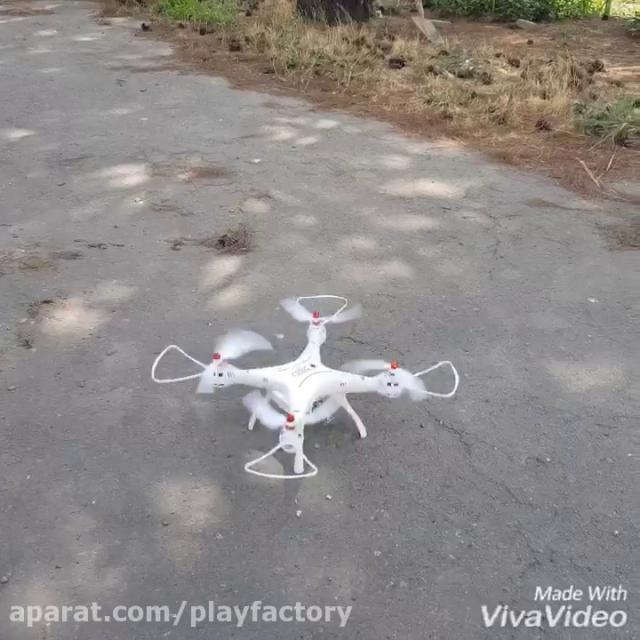drone: (146, 290, 464, 482)
